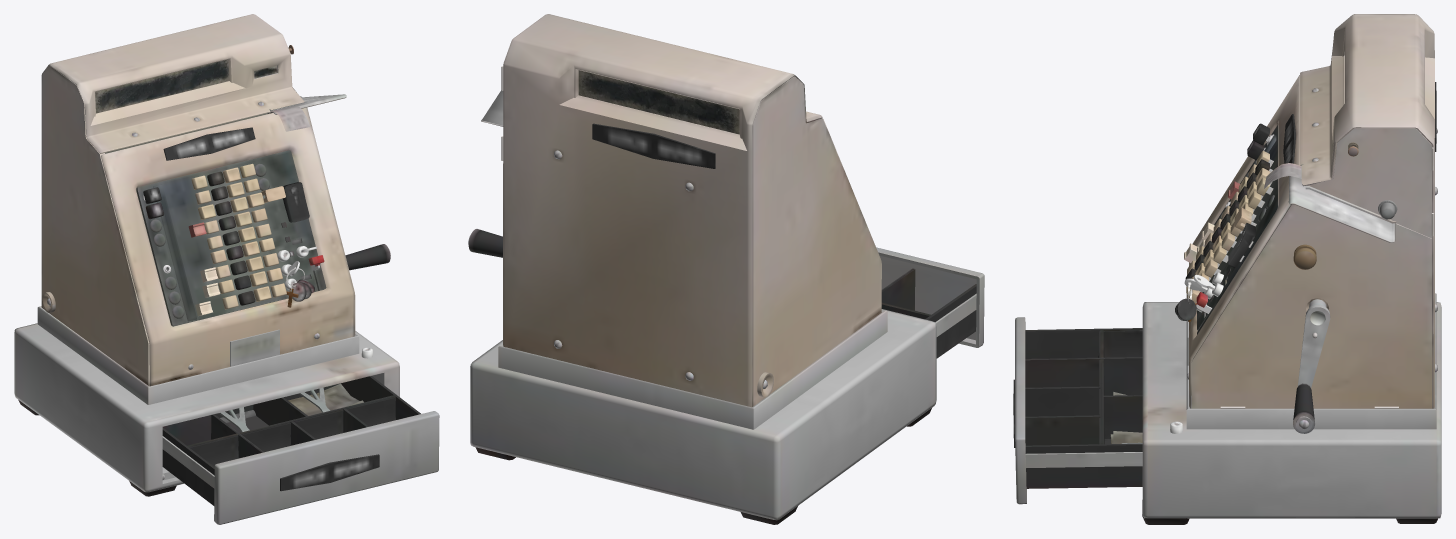
The model's file is cash-register.glb.
The picture shows the model from 3 angles, left to right: view 1: azimuth 30°, elevation 25°; view 2: azimuth 150°, elevation 25°; view 3: azimuth 270°, elevation 25°; orthographic projection. The views are drawn at different scales.
Visible parts, largest first — view 1: CashRegister_01_body, CashRegister_011_drawer; view 2: CashRegister_01_body, CashRegister_011_drawer; view 3: CashRegister_01_body, CashRegister_011_drawer.
Part boxes in pixels (<box>): CashRegister_01_body: <box>14,14,399,496</box>; CashRegister_011_drawer: <box>162,376,439,524</box>; CashRegister_01_body: <box>468,14,936,524</box>; CashRegister_011_drawer: <box>876,247,984,358</box>; CashRegister_01_body: <box>1142,14,1441,524</box>; CashRegister_011_drawer: <box>1013,317,1142,504</box>.
Bounding box in the file's own units: 0.6005 × 0.6214 × 0.6242.
2 materials, 2 textured.
